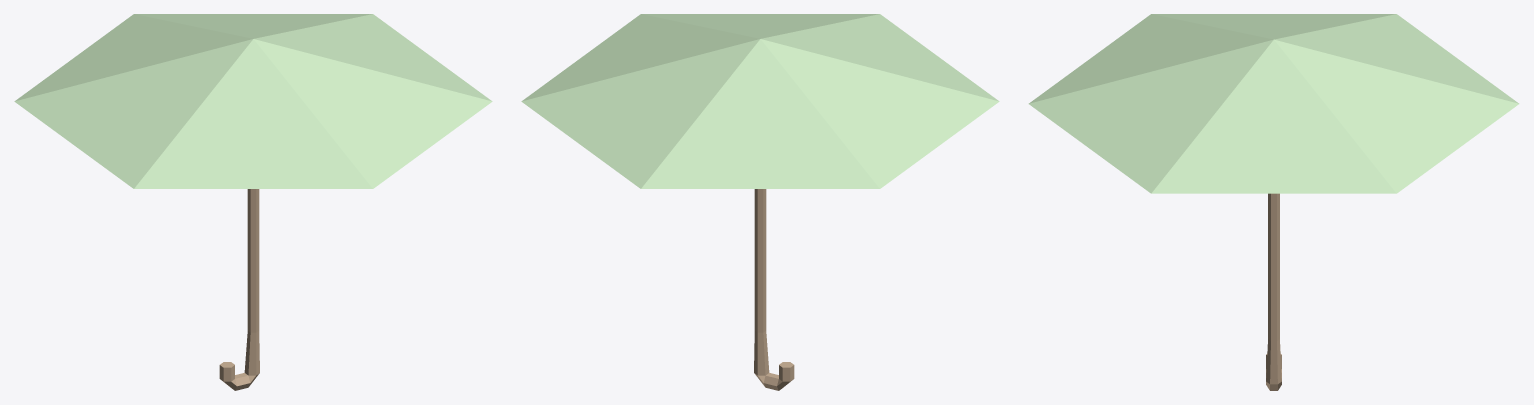
Rendered from Umbrella.fbx.
3 views of the same model, side by side, from view 1: azimuth 30°, elevation 25°; view 2: azimuth 150°, elevation 25°; view 3: azimuth 270°, elevation 25° (orthographic). The views are drawn at different scales.
Visible parts, largest first — view 1: Umbrella; view 2: Umbrella; view 3: Umbrella.
Boxes of the visible parts, x1,y1,x2,y2 form: Umbrella: [14, 14, 492, 390]; Umbrella: [521, 14, 999, 390]; Umbrella: [1028, 14, 1519, 390].
Size of the model in its own units: 0.7194 by 0.6623 by 0.8307.
